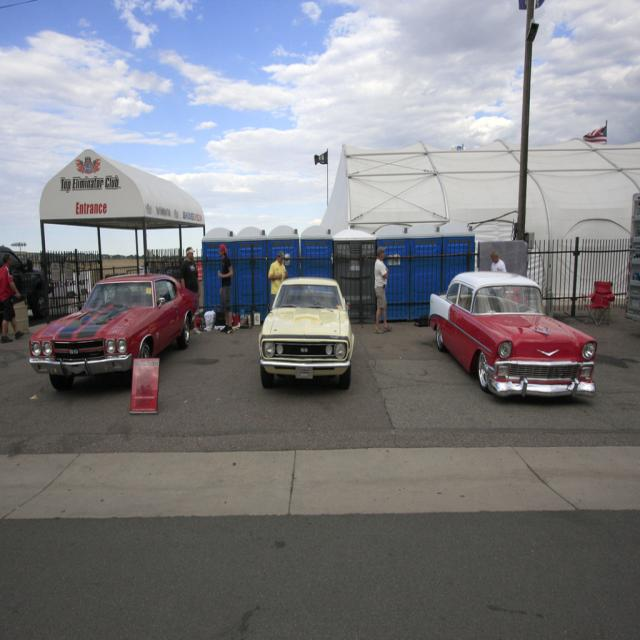car: (429, 264, 600, 398), (29, 268, 200, 393), (258, 273, 356, 389)
